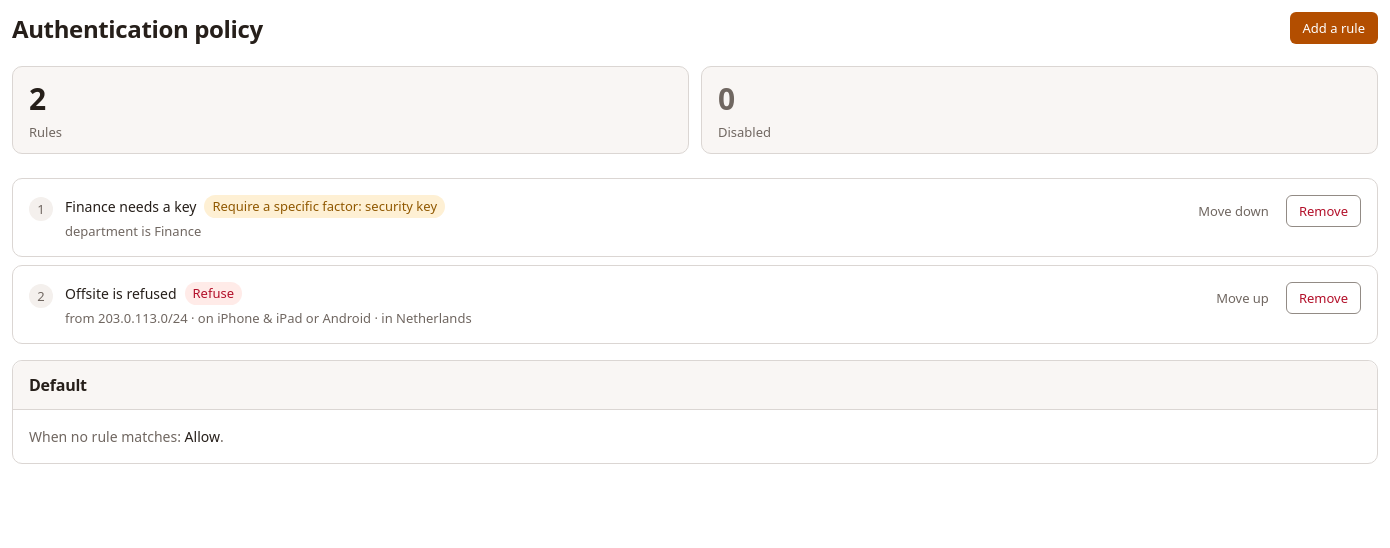
it: PoliciesPage › reports a refused removal instead of appearing to do nothing
Click the button "Remove" in the row of "Finance needs a key" at (1323, 211), box [1286,195,1361,227]
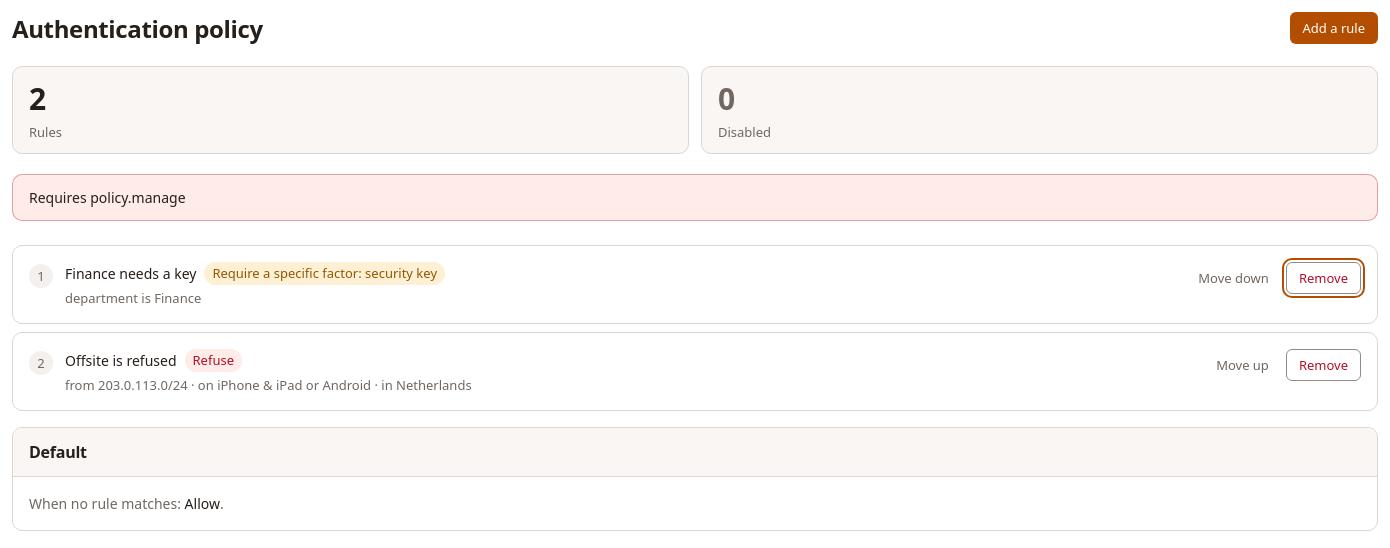
Now the text "Requires policy.manage" is shown, box [29,188,186,207]
